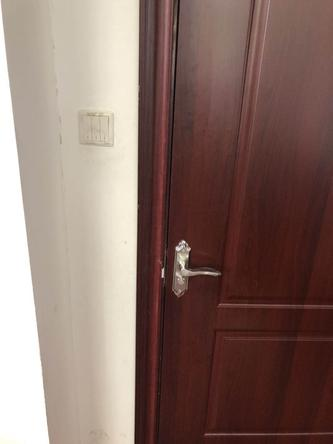switch: (99, 115, 111, 144), (90, 114, 100, 143), (81, 114, 90, 142)
